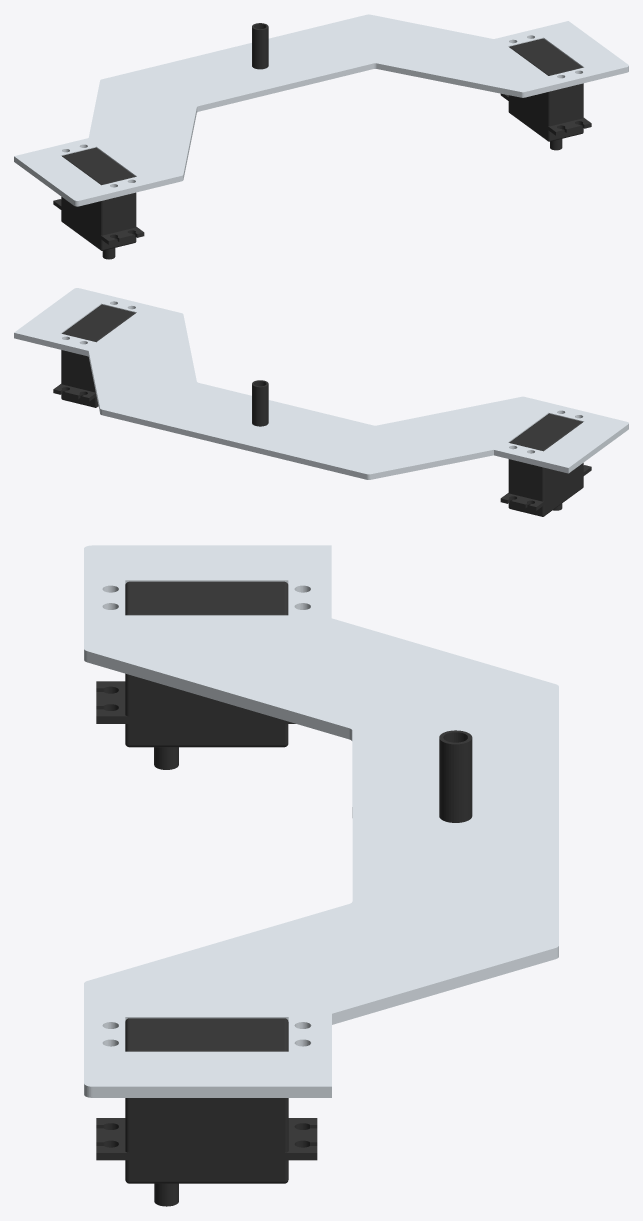
The model's file is bogie_link.dae.
3 views of the same model, one above another, from view 1: azimuth 30°, elevation 25°; view 2: azimuth 150°, elevation 25°; view 3: azimuth 270°, elevation 25° (orthographic). The views are drawn at different scales.
Visible parts, largest first — view 1: bogie_link_-_bogie_plate-1, bogie_link_-_GWS_s35t_std-2; view 2: bogie_link_-_bogie_plate-1, bogie_link_-_GWS_s35t_std-2; view 3: bogie_link_-_bogie_plate-1, bogie_link_-_GWS_s35t_std-2.
Boxes of the visible parts, x1,y1,x2,y2 form: bogie_link_-_bogie_plate-1: [14, 14, 628, 206]; bogie_link_-_GWS_s35t_std-2: [53, 23, 591, 259]; bogie_link_-_bogie_plate-1: [14, 288, 628, 479]; bogie_link_-_GWS_s35t_std-2: [53, 304, 591, 516]; bogie_link_-_bogie_plate-1: [84, 545, 558, 1097]; bogie_link_-_GWS_s35t_std-2: [96, 581, 472, 1206].
Bounding box in the file's own units: 0.31 × 0.115 × 0.0656.
2 materials, 2 textured.
